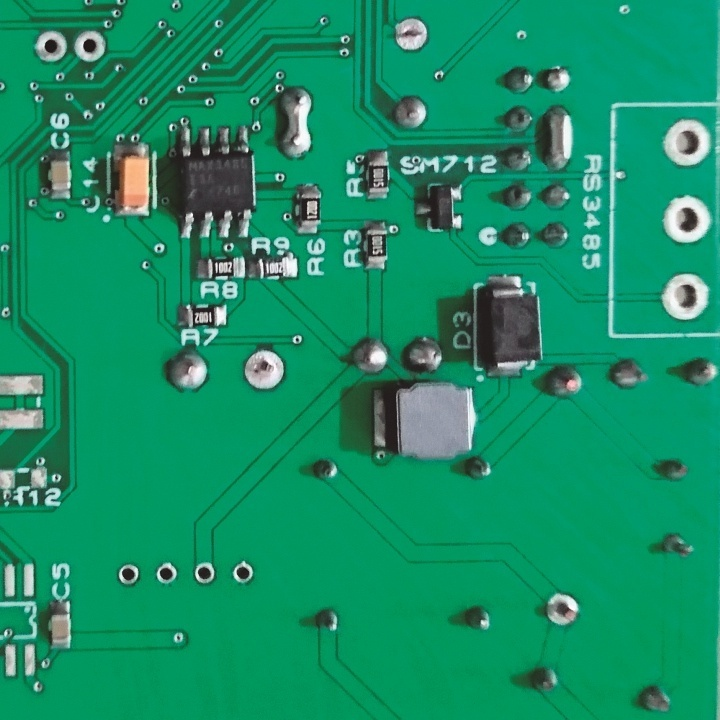F: (659, 192, 716, 249), (658, 268, 714, 326), (660, 115, 713, 170), (240, 343, 287, 393), (541, 587, 584, 632), (391, 15, 432, 59), (31, 29, 71, 69), (70, 27, 110, 66), (190, 558, 222, 587), (151, 558, 180, 589), (114, 563, 145, 590), (229, 559, 256, 588)
P: (276, 82, 316, 164), (541, 101, 578, 175)
